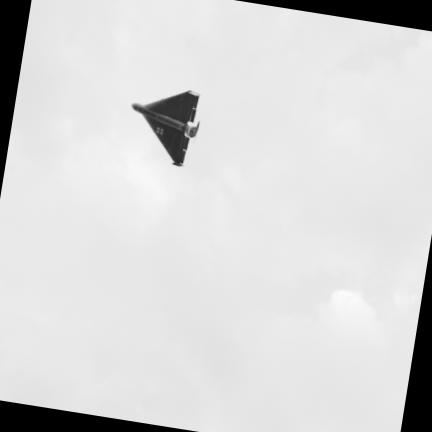Shahed: (133, 91, 198, 165)
